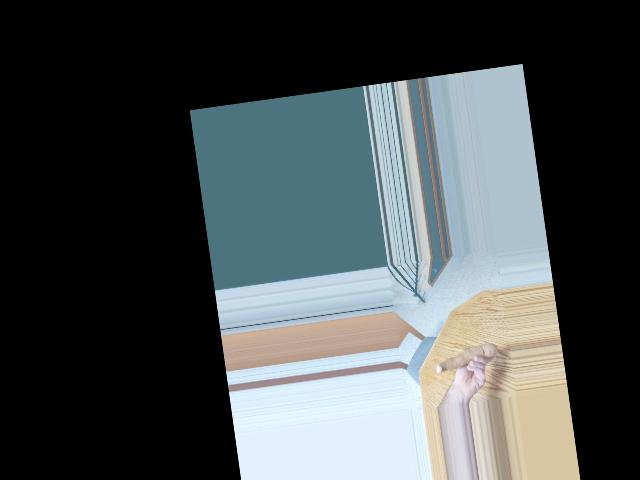sweet_potato: (436, 339, 497, 375)
